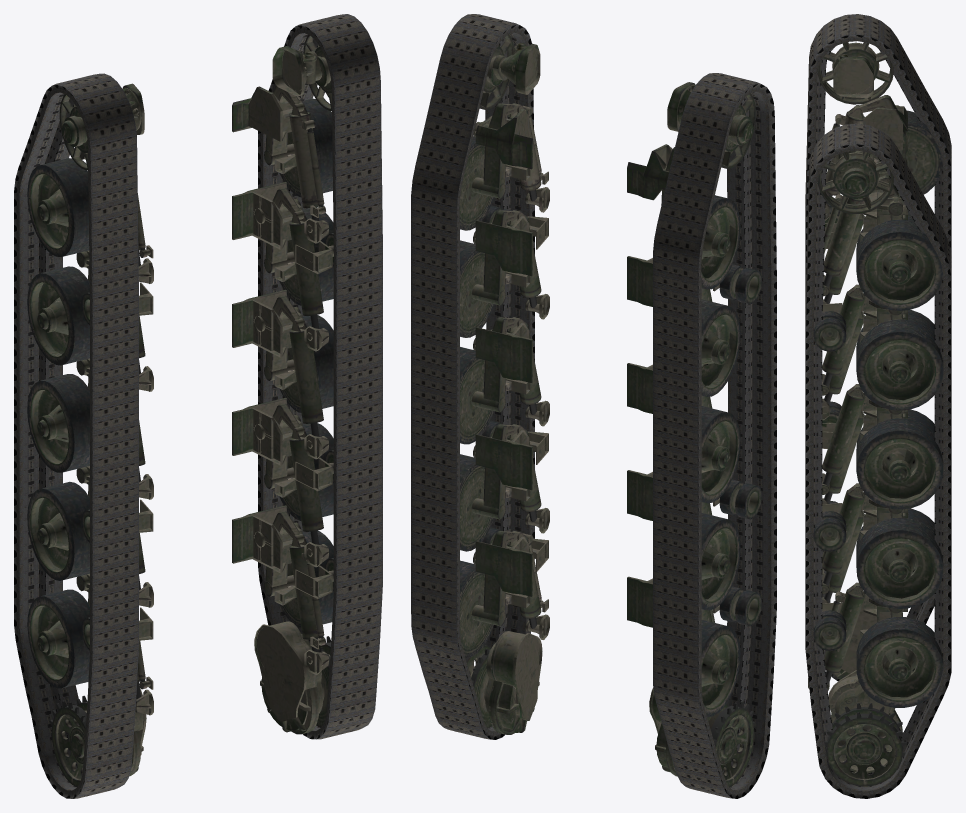
File: Chassis.glb
3 views of the same model, side by side, from view 1: azimuth 30°, elevation 25°; view 2: azimuth 150°, elevation 25°; view 3: azimuth 270°, elevation 25° (orthographic). The views are drawn at different scales.
Parts seen in each view (by area): view 1: set_0_group_0, set_3_group_0, set_1_group_0, set_2_group_0; view 2: set_0_group_0, set_3_group_0, set_1_group_0, set_2_group_0; view 3: set_3_group_0, set_1_group_0, set_2_group_0, set_0_group_0.
Part boxes in pixels (bbox=[...]): set_0_group_0: bbox=[14, 73, 138, 798]; set_3_group_0: bbox=[232, 35, 333, 734]; set_1_group_0: bbox=[258, 14, 382, 739]; set_2_group_0: bbox=[27, 83, 153, 787]; set_0_group_0: bbox=[653, 73, 776, 798]; set_3_group_0: bbox=[459, 34, 549, 734]; set_1_group_0: bbox=[411, 14, 534, 739]; set_2_group_0: bbox=[627, 82, 761, 787]; set_3_group_0: bbox=[808, 150, 943, 786]; set_1_group_0: bbox=[805, 123, 951, 798]; set_2_group_0: bbox=[818, 42, 943, 679]; set_0_group_0: bbox=[805, 14, 951, 681].
Size of the model in its own units: 2.89 by 6.74 by 1.36.
4 materials, 4 textured.
